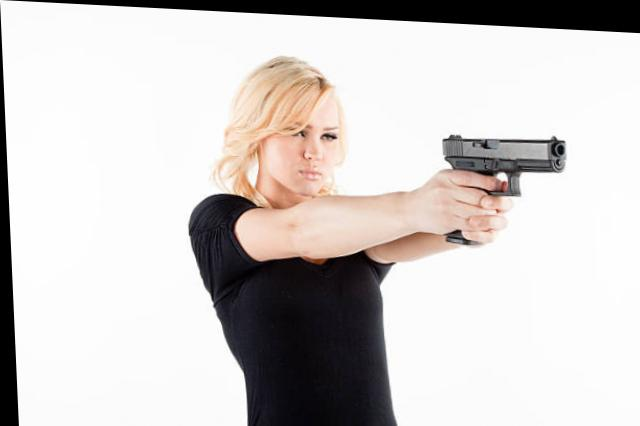other: (186, 53, 397, 424)
